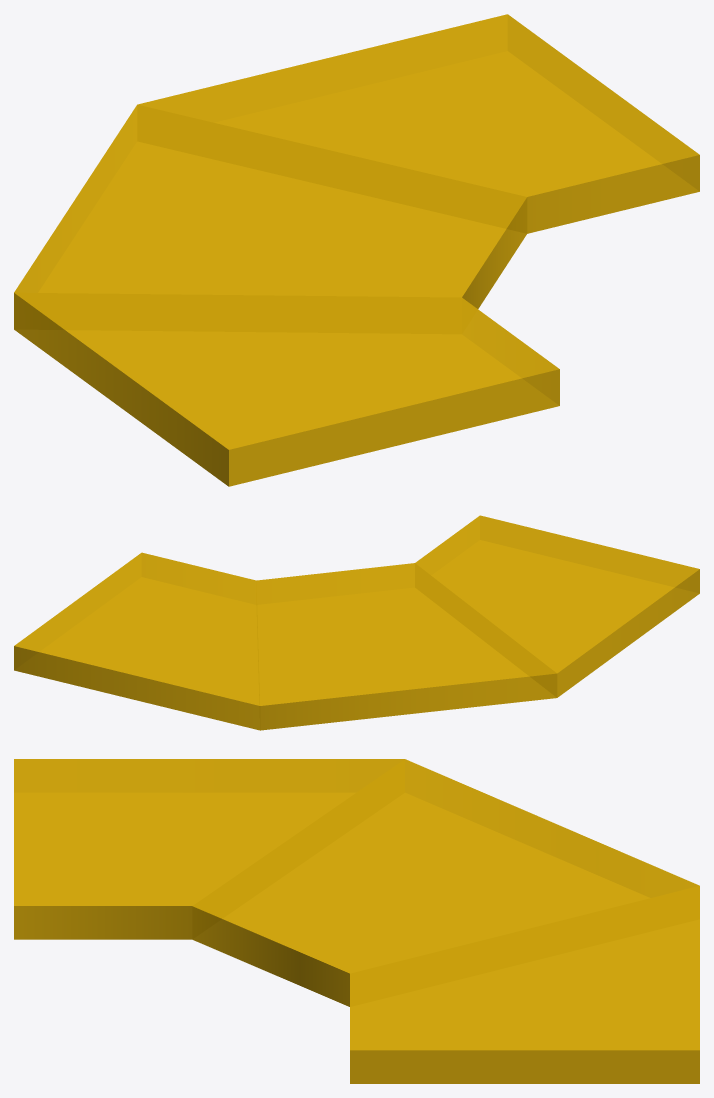
Rendered from SM_Bld_Dock_Corner_01_Collision.fbx.
3 renders of one model, top to bottom at view 1: azimuth 30°, elevation 25°; view 2: azimuth 150°, elevation 25°; view 3: azimuth 270°, elevation 25°, orthographic. The views are drawn at different scales.
Visible parts, largest first — view 1: SM_Bld_Dock_Corner_01_Collision; view 2: SM_Bld_Dock_Corner_01_Collision; view 3: SM_Bld_Dock_Corner_01_Collision.
Boxes of the visible parts, <box> form: SM_Bld_Dock_Corner_01_Collision: <box>14,14,699,486</box>; SM_Bld_Dock_Corner_01_Collision: <box>14,515,699,730</box>; SM_Bld_Dock_Corner_01_Collision: <box>14,759,699,1083</box>.
Size of the model in its own units: 509 by 27.35 by 507.
